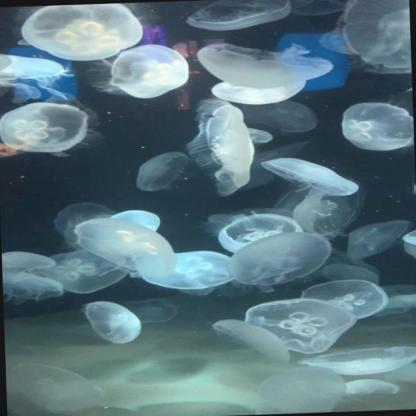jellyfish: (21, 2, 149, 63), (200, 38, 338, 91), (72, 213, 179, 279), (245, 298, 354, 356), (0, 96, 94, 158), (13, 358, 110, 416), (226, 230, 330, 284), (196, 102, 256, 194), (33, 242, 131, 296), (342, 0, 412, 75), (265, 155, 354, 213), (106, 43, 190, 100), (145, 246, 242, 294), (209, 314, 296, 366), (258, 365, 344, 414), (337, 100, 414, 154), (299, 276, 388, 321), (304, 343, 416, 377), (186, 0, 292, 34), (82, 298, 146, 348), (216, 211, 298, 250), (342, 217, 409, 263), (238, 96, 317, 135), (0, 45, 70, 86), (2, 258, 69, 300), (208, 78, 306, 106), (132, 147, 191, 193), (1, 247, 56, 274), (337, 379, 402, 398), (127, 304, 180, 326), (239, 126, 273, 144), (406, 228, 416, 258)
